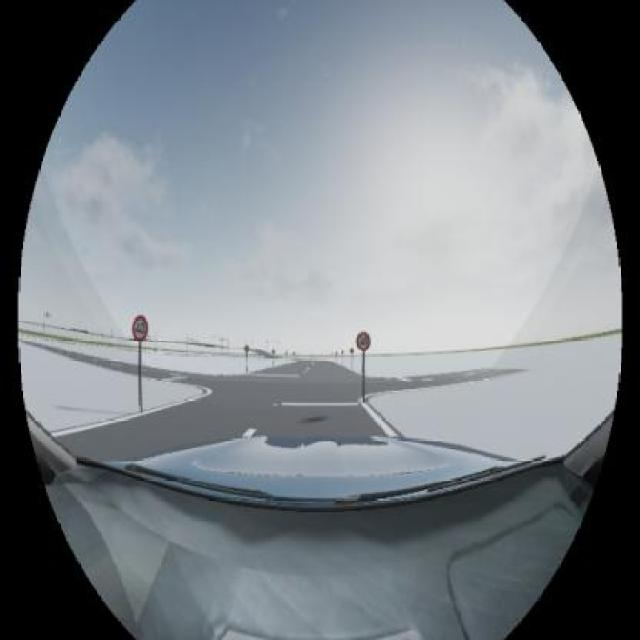forb_speed_over_40: (132, 315, 149, 341), (355, 330, 371, 352)
